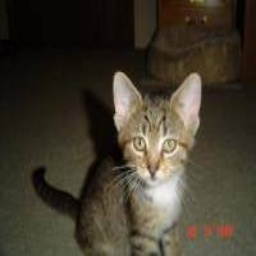cat: (39, 71, 199, 256)
